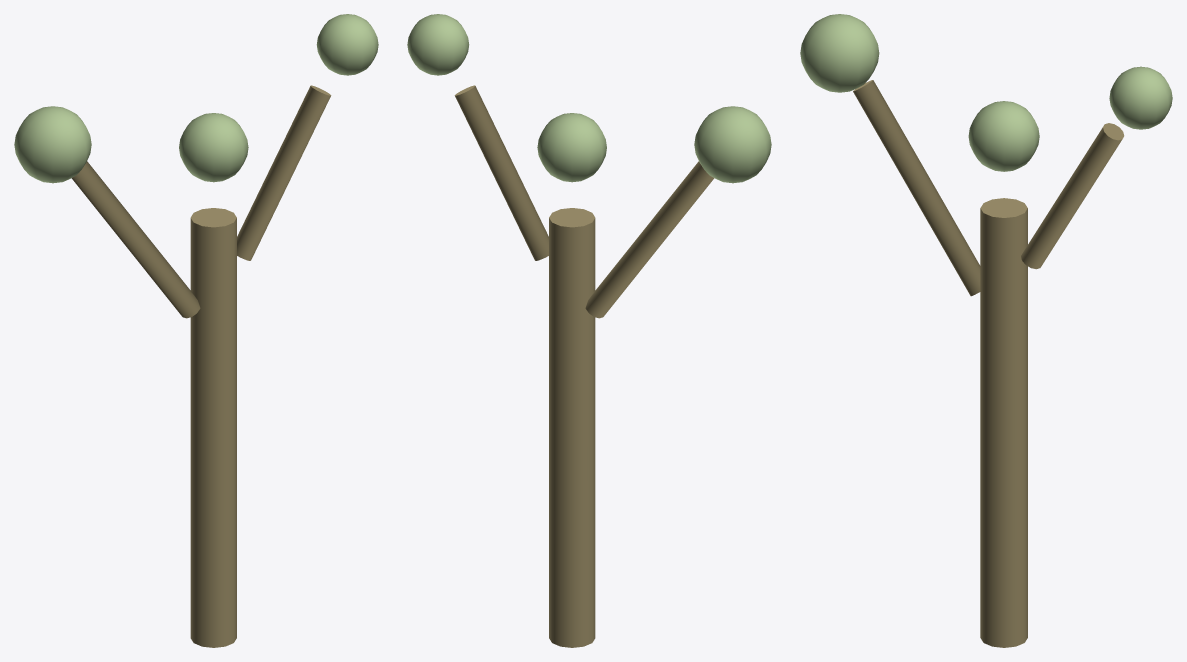
File: env-ww-joshua.glb
The picture shows the model from 3 angles, left to right: view 1: azimuth 30°, elevation 25°; view 2: azimuth 150°, elevation 25°; view 3: azimuth 330°, elevation 25°; orthographic projection. The views are drawn at different scales.
Size of the model in its own units: 2.65 by 4.2 by 0.5.
